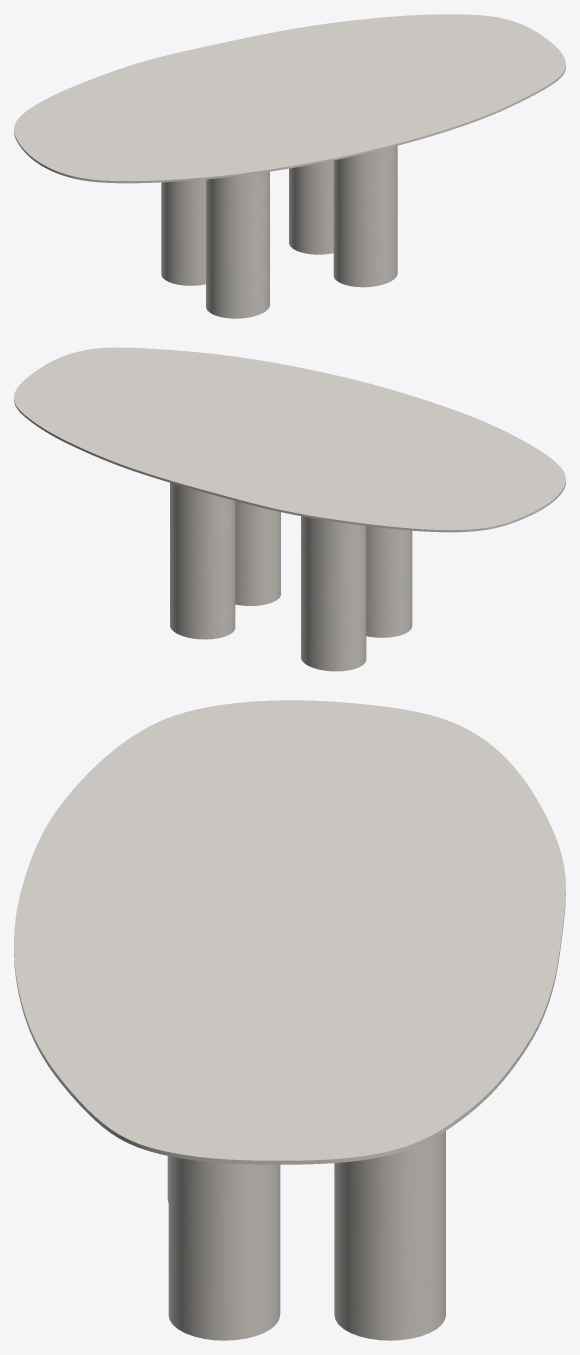
File: pearlwhite_danish_facet_grove.glb
3 renders of one model, top to bottom at view 1: azimuth 30°, elevation 25°; view 2: azimuth 150°, elevation 25°; view 3: azimuth 270°, elevation 25°, orthographic. The views are drawn at different scales.
Parts seen in each view (by area): view 1: facet_danish, grove; view 2: facet_danish, grove; view 3: facet_danish, grove.
Boxes of the visible parts, box(x1,y1,x2,y2) form: facet_danish: box(14, 14, 565, 183); grove: box(161, 146, 397, 318); facet_danish: box(14, 347, 565, 532); grove: box(170, 482, 412, 671); facet_danish: box(14, 700, 565, 1164); grove: box(167, 1131, 445, 1340).
Bounding box in the file's own units: 7.5 × 2.51 × 3.8.
1 material, 1 textured.
